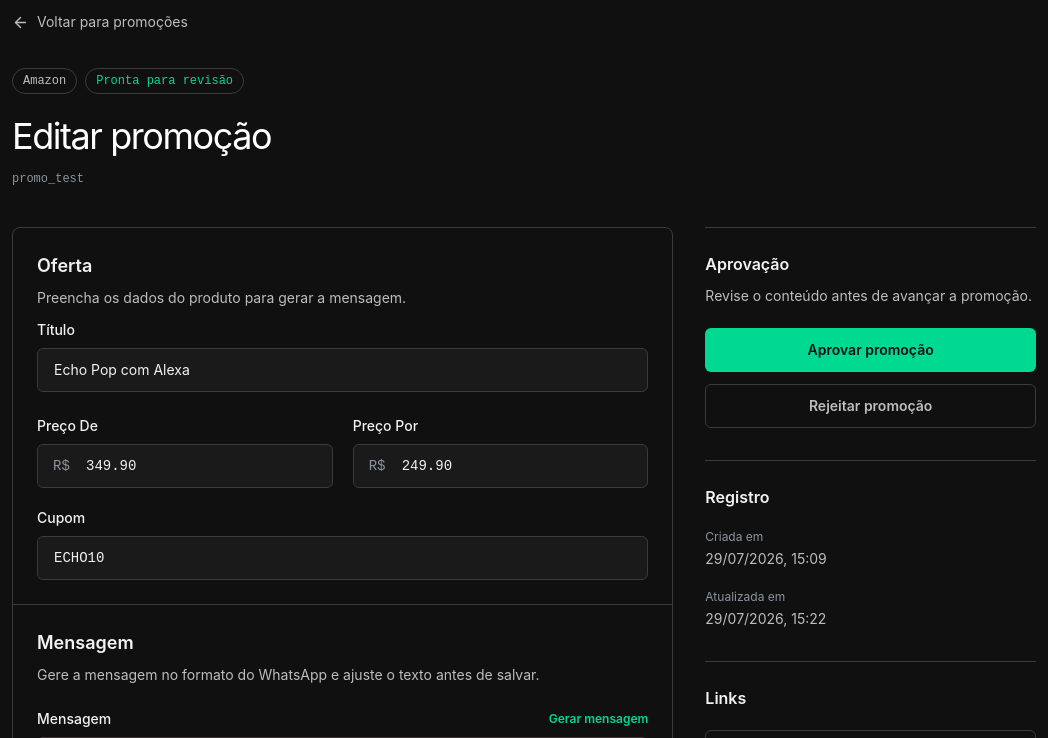
Test: PromotionDetailPage › approves a promotion ready for review
The image size is (1048, 738).
What coordinates should you click on to do the following:
click the button "Aprovar promoção"
I would click on:
 (871, 350)
Its box is [705,328,1036,372].
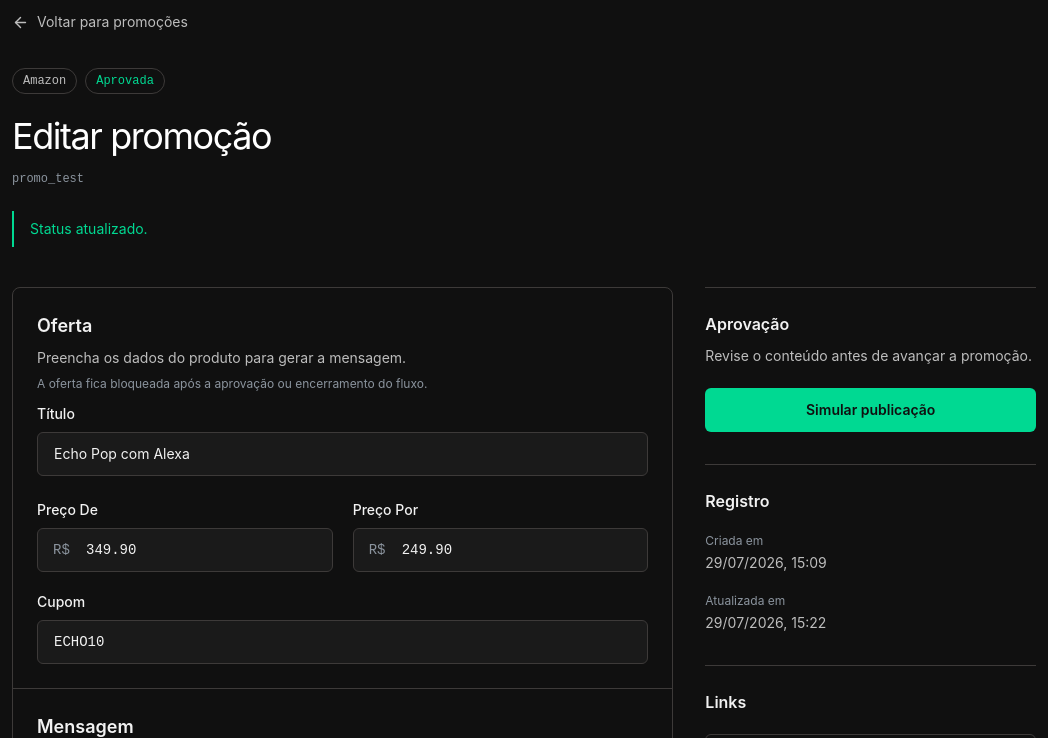
Now the text "Aprovada" is shown, box [85,68,165,94]
Now the message "Status atualizado." is shown, box [12,211,1036,247]
